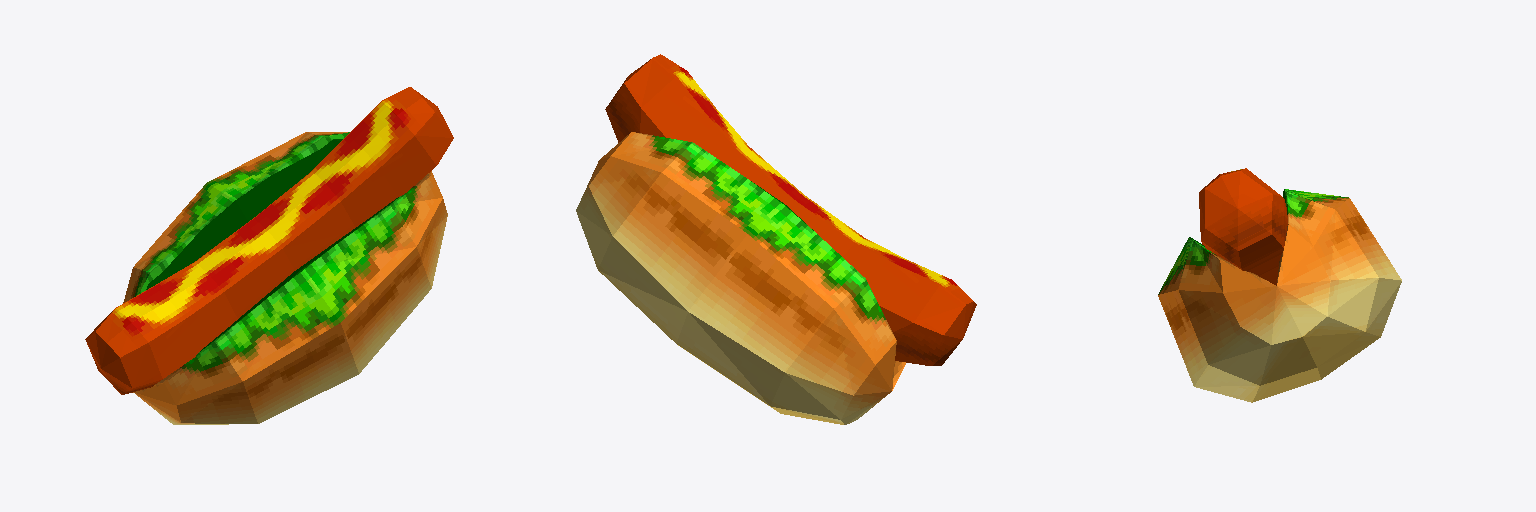
3 views of the same model, side by side, from view 1: azimuth 30°, elevation 25°; view 2: azimuth 150°, elevation 25°; view 3: azimuth 270°, elevation 25° (orthographic).
Visible parts, largest first — view 1: polygon0, polygon1; view 2: polygon0, polygon1; view 3: polygon0, polygon1.
Part boxes in pixels (x1,y1,x2,y2): polygon0: (123, 132, 447, 424); polygon1: (85, 87, 453, 394); polygon0: (576, 132, 905, 424); polygon1: (605, 54, 976, 365); polygon0: (1158, 189, 1401, 402); polygon1: (1199, 168, 1287, 284).
Bounding box in the file's own units: 1.05 × 0.8431 × 0.6184.
2 materials, 2 textured.